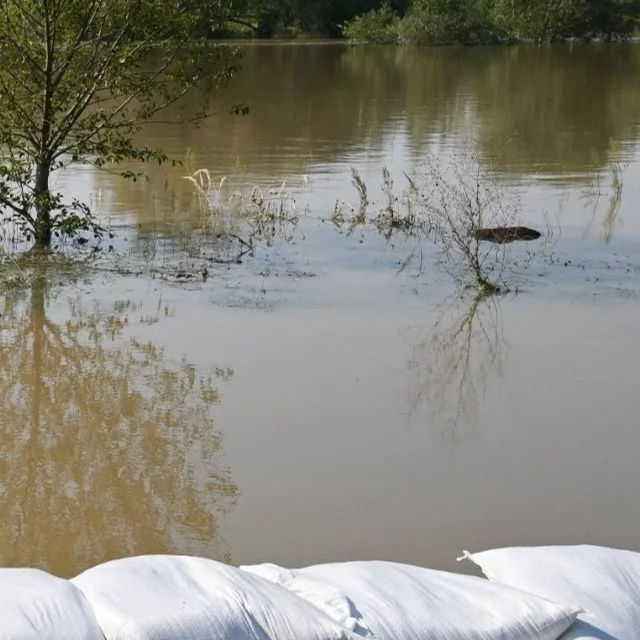sandbag: (241, 561, 578, 640), (74, 555, 350, 640), (461, 545, 640, 640), (0, 568, 102, 640)
